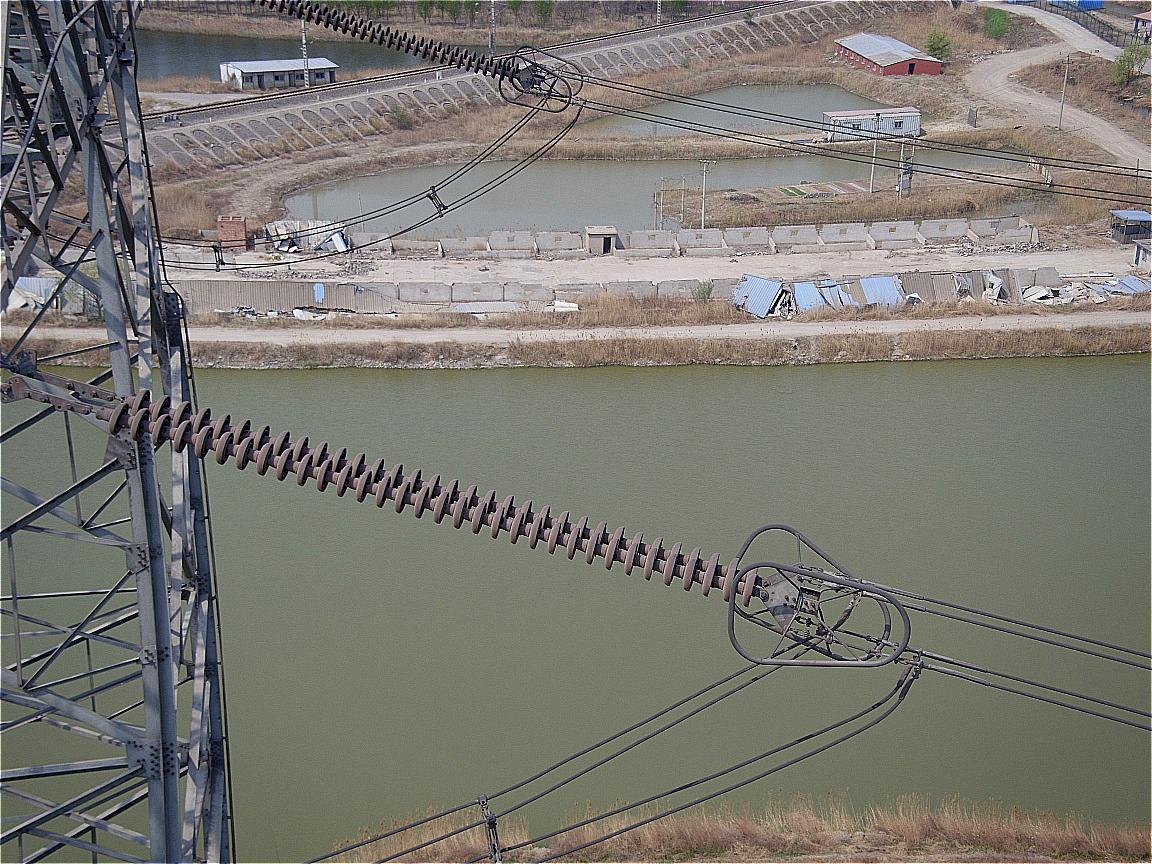insultor1: (106, 387, 765, 610), (266, 2, 519, 83)
